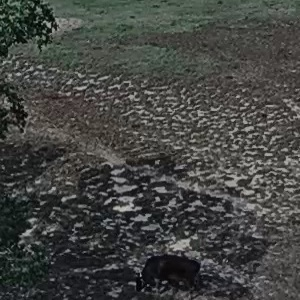cow: (124, 248, 224, 293)
